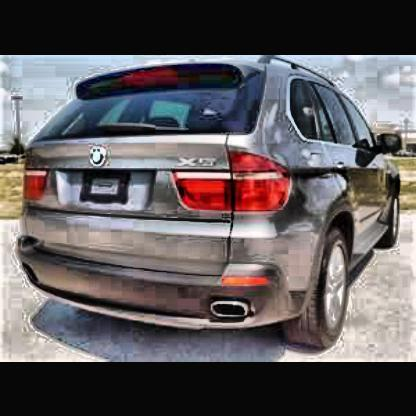BMW X5 SUV 2007: (15, 57, 406, 350)
